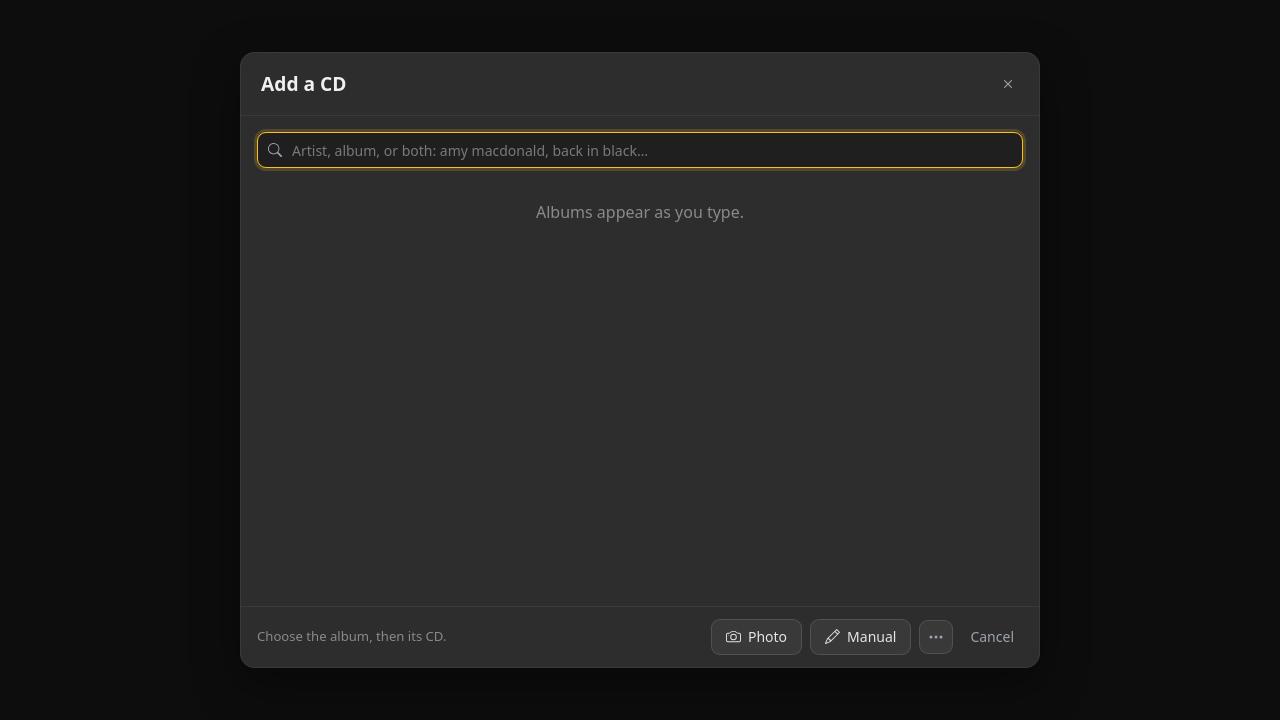
Test: AddMusicDialog — barcode by photo › offers to photograph the barcode
Click the button named "other searches".
click(936, 637)  # box 919,620 -> 953,654
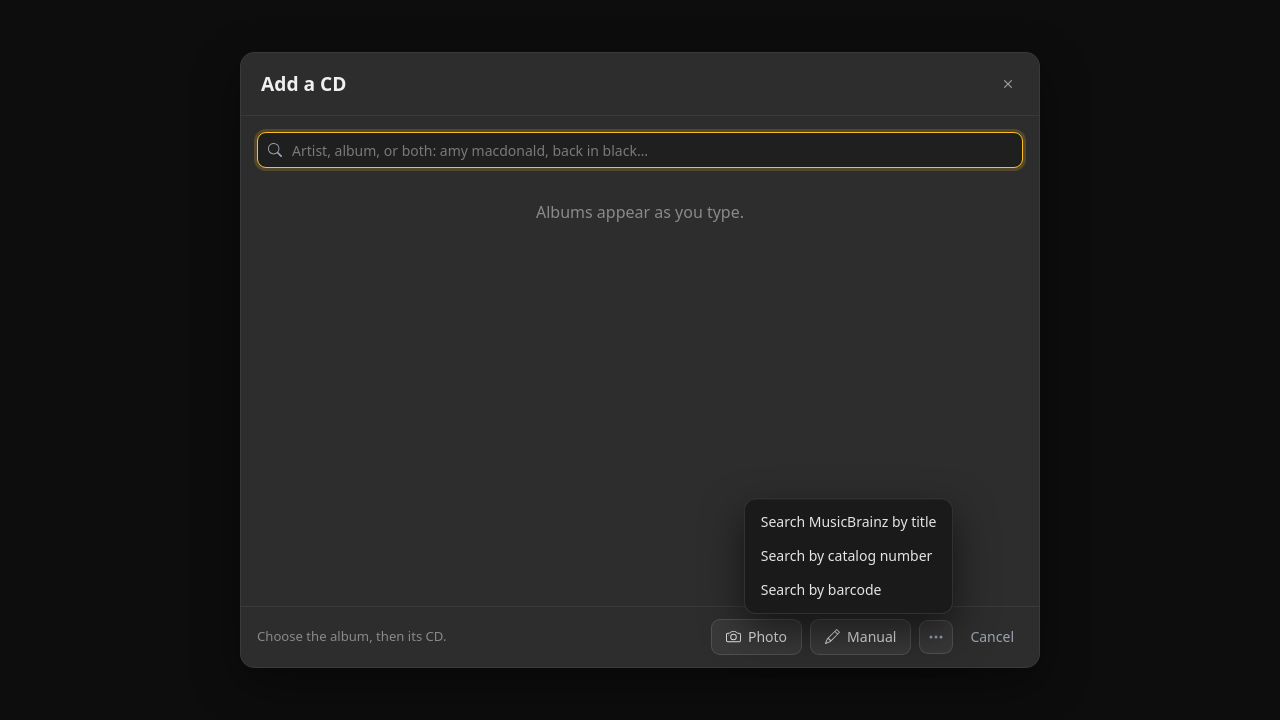
Click the menu item "Search by barcode".
click(849, 590)  # box 751,573 -> 946,607
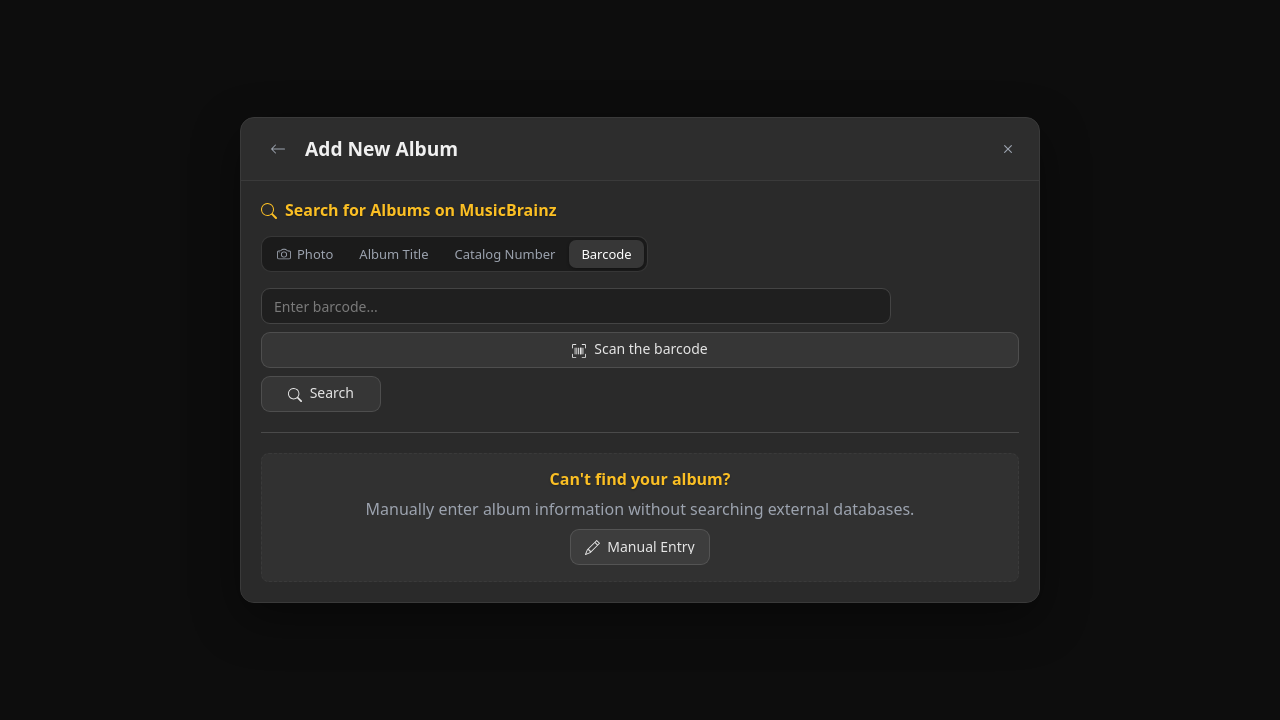
Check: the button "Scan the barcode" is shown, box 261,332 -> 1019,368
